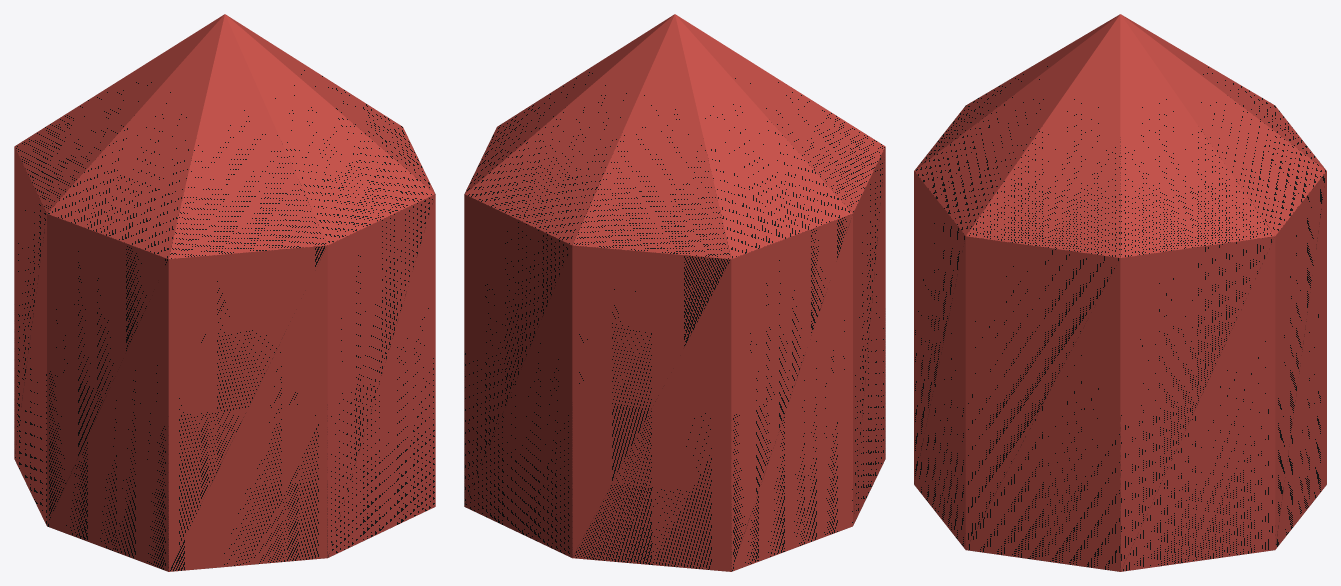
File: DL_Obj_Level5_AltarCrystalCircle.fbx
3 renders of one model, left to right at view 1: azimuth 30°, elevation 25°; view 2: azimuth 150°, elevation 25°; view 3: azimuth 270°, elevation 25°, orthographic.
Parts seen in each view (by area): view 1: Level5_AltarCrystalCircle; view 2: Level5_AltarCrystalCircle; view 3: Level5_AltarCrystalCircle.
Part boxes in pixels (bbox=[...]): Level5_AltarCrystalCircle: bbox=[14, 14, 435, 571]; Level5_AltarCrystalCircle: bbox=[464, 14, 885, 571]; Level5_AltarCrystalCircle: bbox=[914, 14, 1326, 571].
Size of the model in its own units: 71.51 by 90 by 71.51.
